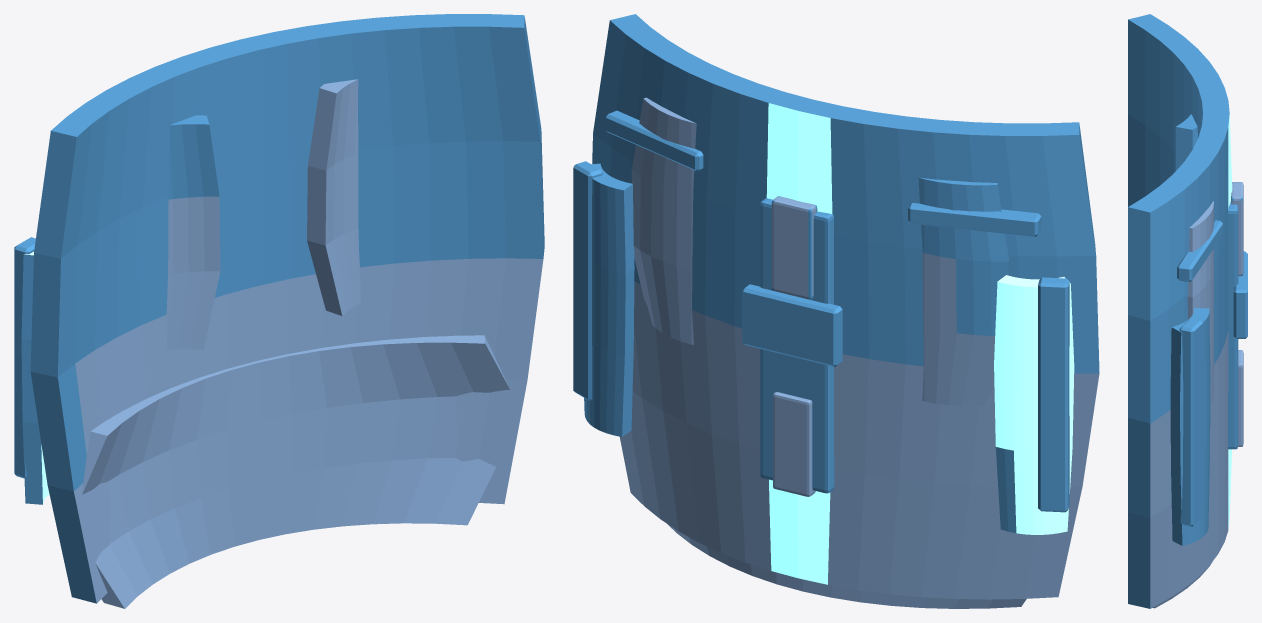
The model's file is back.glb.
3 views of the same model, side by side, from view 1: azimuth 30°, elevation 25°; view 2: azimuth 150°, elevation 25°; view 3: azimuth 270°, elevation 25° (orthographic). The views are drawn at different scales.
Parts seen in each view (by area): view 1: armor_back_v001; view 2: armor_back_v001; view 3: armor_back_v001.
Part boxes in pixels (bbox=[...]): armor_back_v001: bbox=[14, 14, 544, 608]; armor_back_v001: bbox=[573, 14, 1099, 608]; armor_back_v001: bbox=[1128, 14, 1247, 608].
Bounding box in the file's own units: 0.5763 × 0.5225 × 0.1354.
